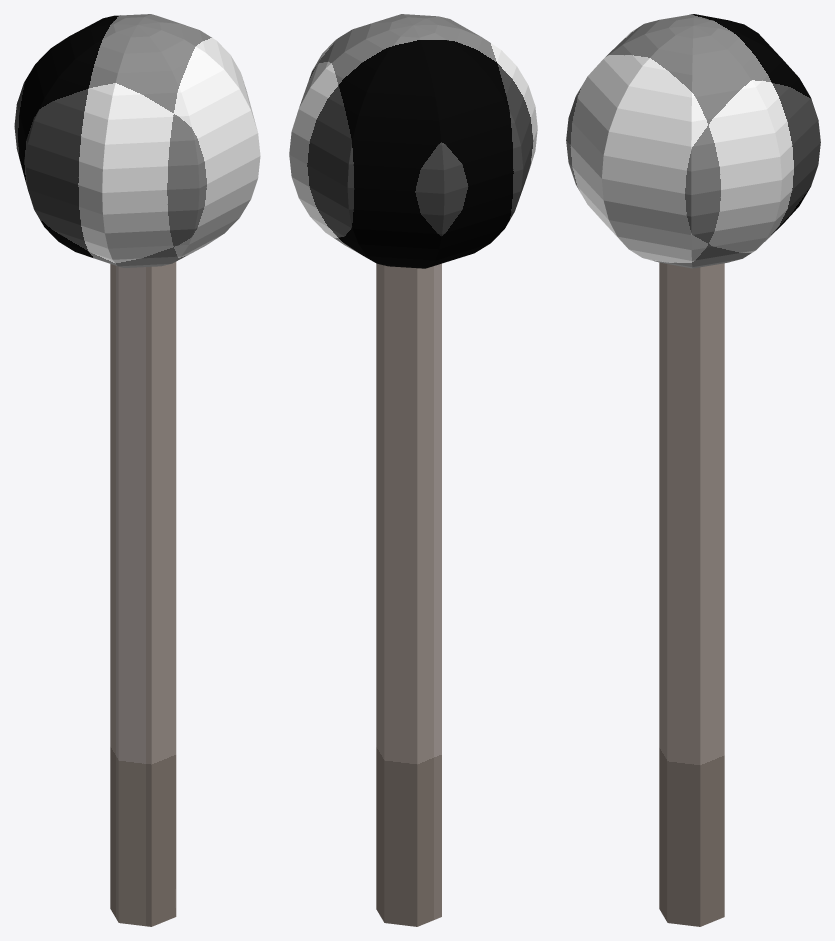
The model's file is 02_planet.gltf.
The picture shows the model from 3 angles, left to right: view 1: azimuth 30°, elevation 25°; view 2: azimuth 150°, elevation 25°; view 3: azimuth 270°, elevation 25°; orthographic projection.
Parts seen in each view (by area): view 1: 02_planet; view 2: 02_planet; view 3: 02_planet.
Part boxes in pixels (x1=…): 02_planet: x1=14, y1=14, x2=260, y2=926; 02_planet: x1=289, y1=14, x2=537, y2=926; 02_planet: x1=566, y1=14, x2=820, y2=926.
Bounding box in the file's own units: 0.5987 × 2.29 × 0.5987.
2 materials, 2 textured.
